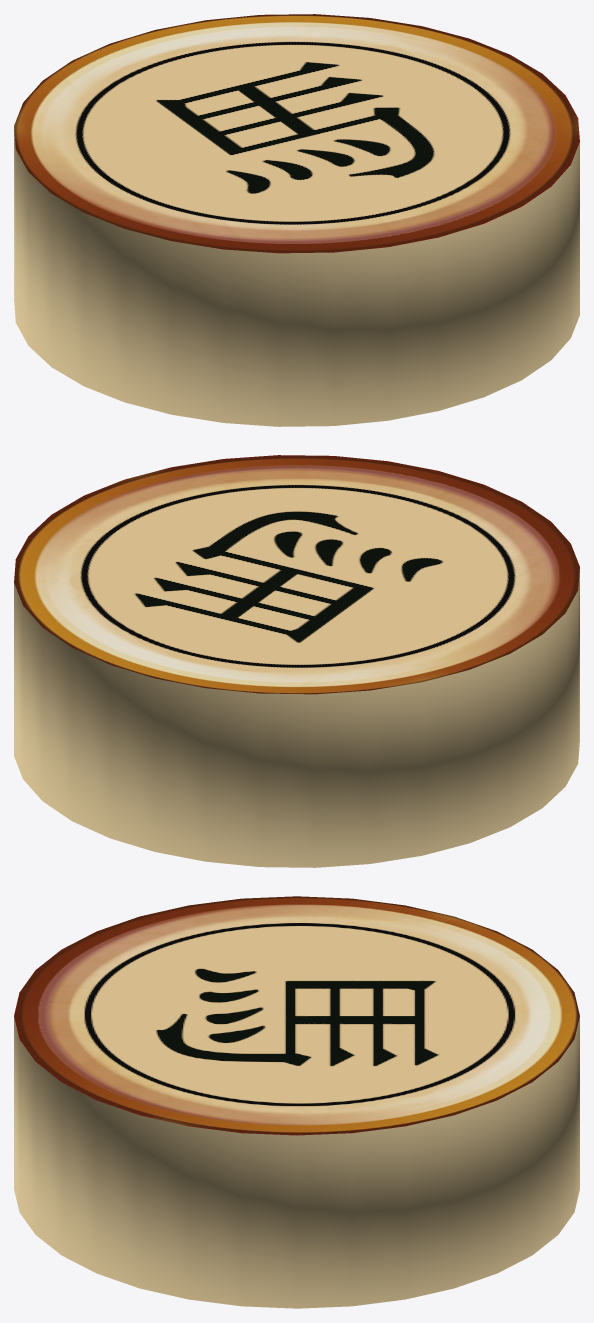
File: ma_den.fbx
3 renders of one model, top to bottom at view 1: azimuth 30°, elevation 25°; view 2: azimuth 150°, elevation 25°; view 3: azimuth 270°, elevation 25°, orthographic.
Parts seen in each view (by area): view 1: Cylinder.009; view 2: Cylinder.009; view 3: Cylinder.009.
Boxes of the visible parts, x1,y1,x2,y2 form: Cylinder.009: (14,14,579,426); Cylinder.009: (14,455,579,867); Cylinder.009: (14,896,579,1308).
Size of the model in its own units: 200 by 67.52 by 200.
